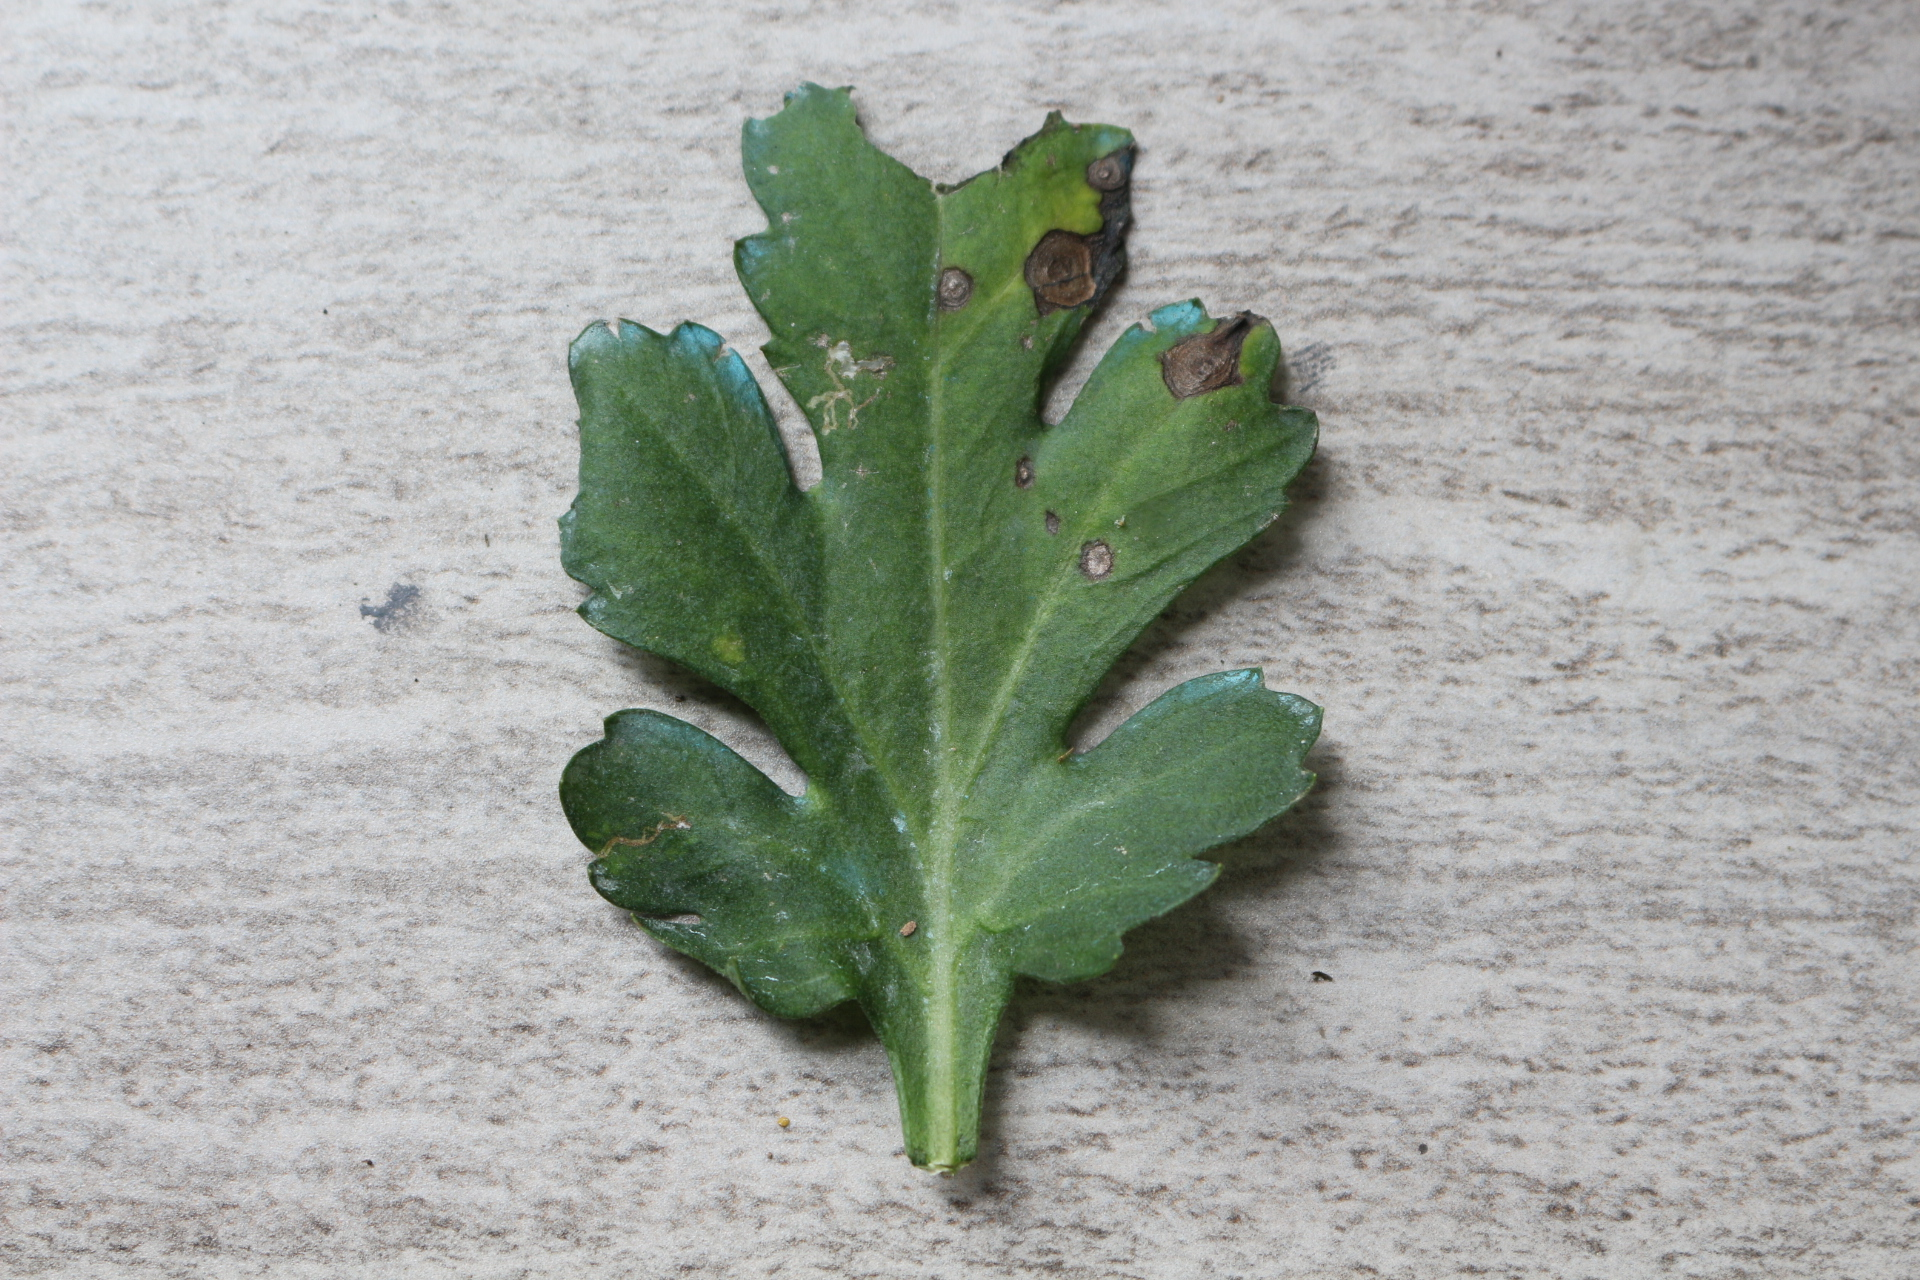namden: (933, 267, 974, 316), (1083, 537, 1116, 581), (1010, 454, 1041, 491), (1043, 510, 1069, 546)
namsung: (700, 629, 754, 669)
